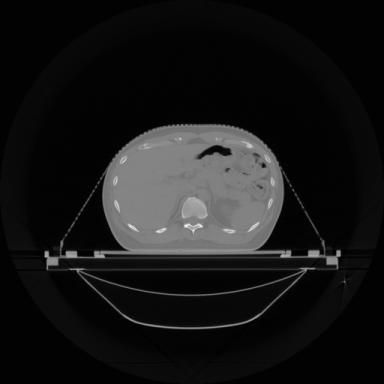body: (103, 125, 284, 251)
cord: (182, 197, 208, 234)
